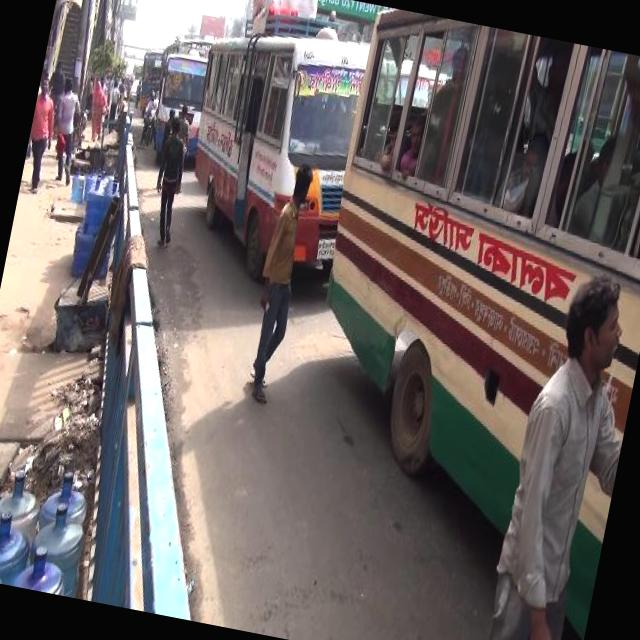bus: (267, 5, 640, 639), (176, 0, 377, 285), (149, 45, 215, 183), (160, 24, 217, 96), (135, 44, 165, 117), (132, 58, 146, 82)
car: (129, 76, 142, 105)
motorcycle: (142, 109, 161, 145)
